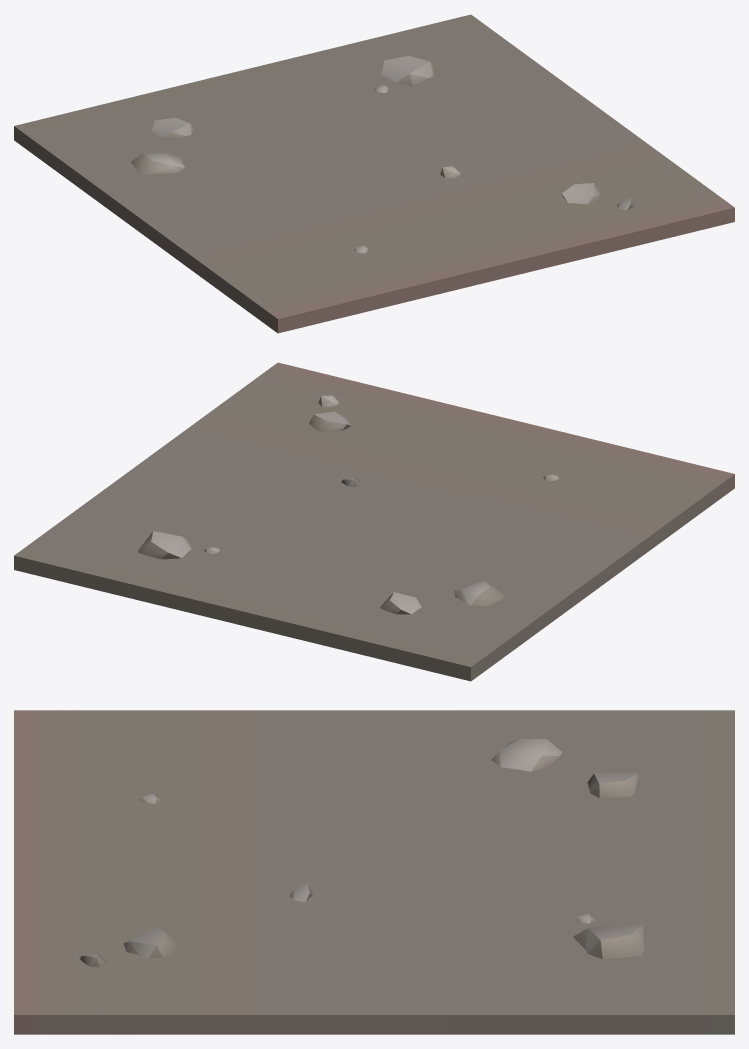
File: floor_dirt_large.glb
The picture shows the model from 3 angles, top to bottom: view 1: azimuth 30°, elevation 25°; view 2: azimuth 150°, elevation 25°; view 3: azimuth 270°, elevation 25°; orthographic projection. The views are drawn at different scales.
Visible parts, largest first — view 1: floor_dirt_large; view 2: floor_dirt_large; view 3: floor_dirt_large.
Part boxes in pixels (x1,y1,x2,y2): floor_dirt_large: (14,14,734,333); floor_dirt_large: (14,362,734,681); floor_dirt_large: (14,710,734,1034).
Bounding box in the file's own units: 4 × 0.2085 × 4.
1 material, 1 textured.
